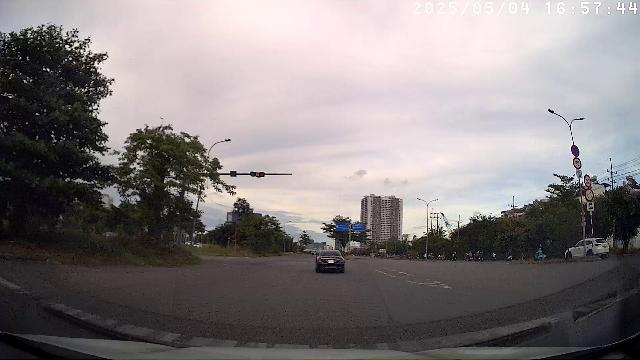127-toc-do-toi-da-60: (584, 189, 594, 201)
127-toc-do-toi-da-80: (573, 157, 581, 169)
130-cam-dung-va-do-xe: (572, 145, 580, 157)
